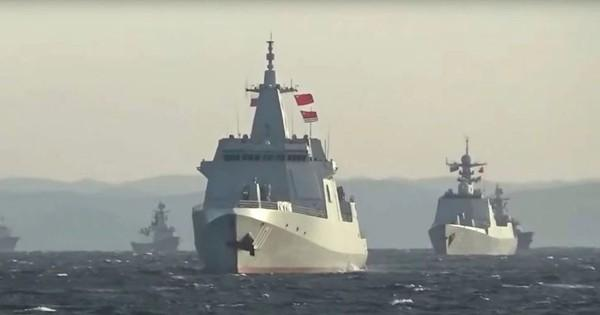MIL_Ship: (187, 34, 369, 276), (425, 136, 518, 256), (488, 184, 537, 253), (129, 200, 184, 255), (0, 215, 26, 253)
